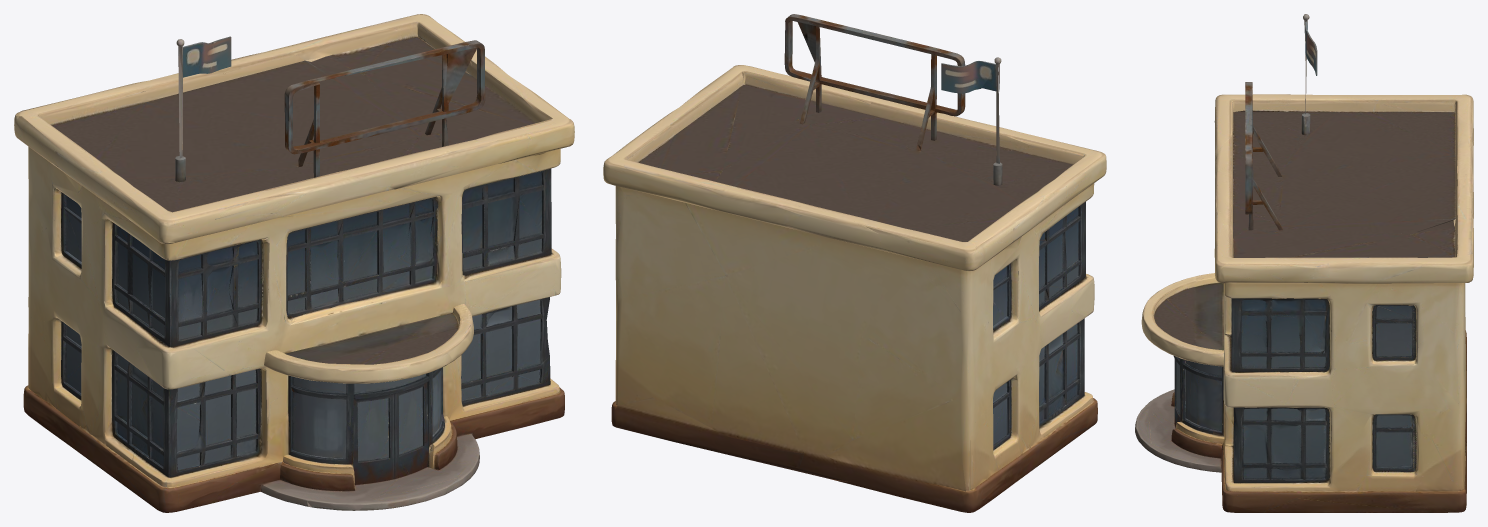
File: terminal.glb
3 renders of one model, left to right at view 1: azimuth 30°, elevation 25°; view 2: azimuth 150°, elevation 25°; view 3: azimuth 270°, elevation 25°, orthographic. The views are drawn at different scales.
Size of the model in its own units: 1.9 by 1.85 by 1.59.
Materials: 1 (1 with a texture image).
